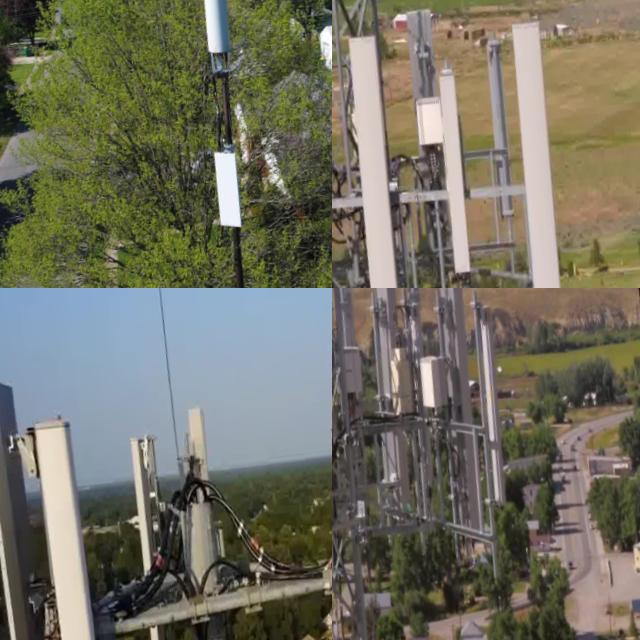GSM Antenna: (489, 5, 595, 288), (332, 27, 438, 288), (414, 288, 517, 552), (17, 405, 102, 640), (356, 288, 442, 519), (115, 423, 204, 640), (423, 51, 501, 287), (456, 288, 536, 516), (0, 373, 62, 640), (470, 35, 539, 218), (174, 394, 237, 568), (332, 288, 389, 462), (209, 133, 264, 235), (185, 0, 252, 64)
